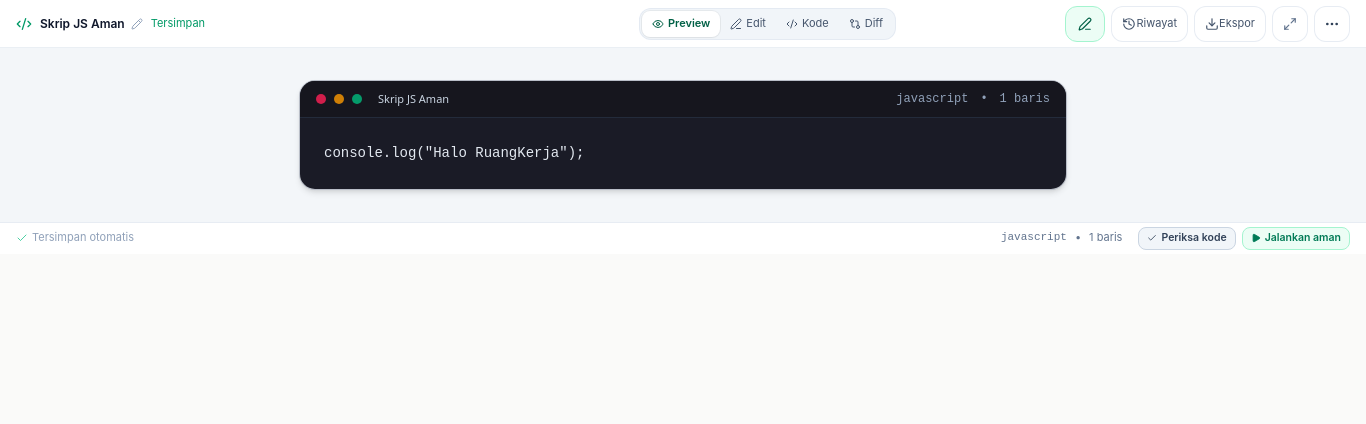
Test: Workspace Canvas 2.0 UX & Behavior › renders Jalankan aman button specifically for JavaScript artifacts
This screenshot has width=1366, height=424.
Expected: the button with aria-label "Periksa kode secara statis" is shown, 1138,227 -> 1236,250
Click the button with aria-label "Jalankan kode di sandbox lokal aman": (1296, 238) 1242,227 -> 1350,250
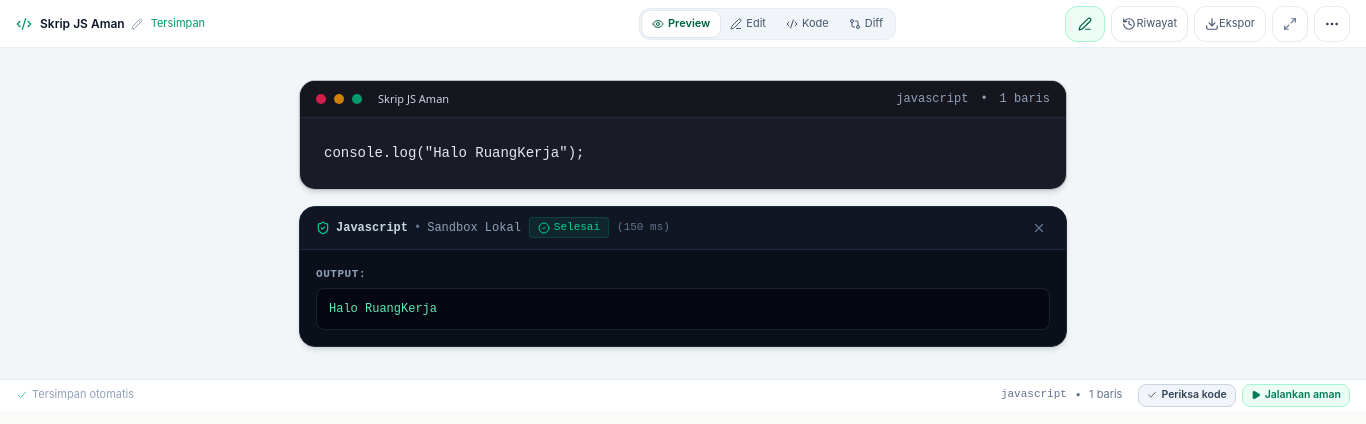
Expected: the element named "Panel Hasil Pemeriksaan Kode" is shown, 299,206 -> 1067,347
